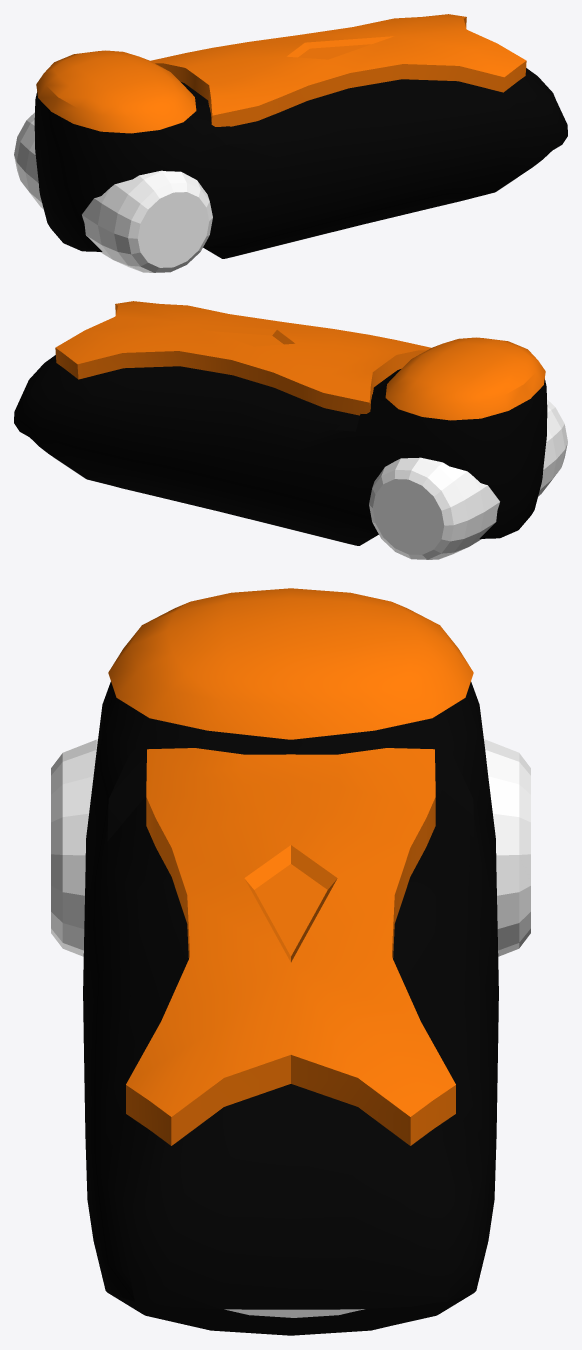
Rendered from new_simHand_id12.fbx.
3 renders of one model, top to bottom at view 1: azimuth 30°, elevation 25°; view 2: azimuth 150°, elevation 25°; view 3: azimuth 270°, elevation 25°, orthographic. The views are drawn at different scales.
Parts seen in each view (by area): view 1: Cube.004, Cylinder; view 2: Cube.004, Cylinder; view 3: Cube.004, Cylinder.
Boxes of the visible parts, x1,y1,x2,y2 form: Cube.004: [34, 14, 567, 258]; Cylinder: [14, 112, 212, 272]; Cube.004: [14, 301, 547, 545]; Cylinder: [369, 399, 567, 559]; Cube.004: [83, 588, 498, 1335]; Cylinder: [51, 739, 530, 956].
Bounding box in the file's own units: 79.13 × 31.53 × 33.89.
